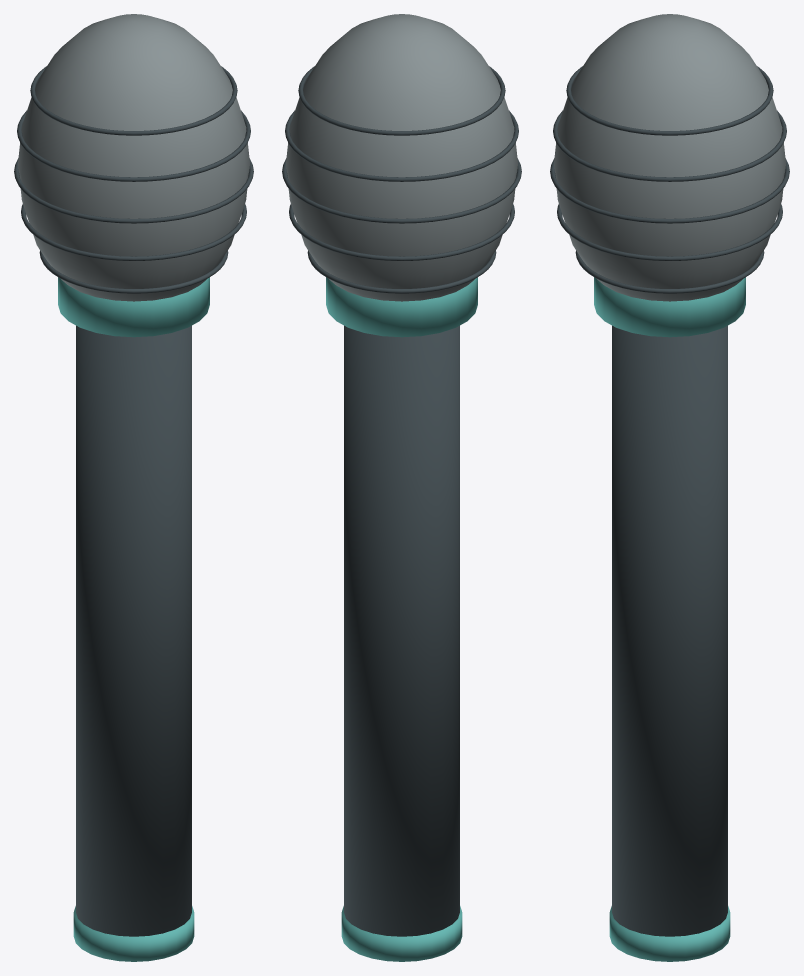
The model's file is studio-microphone-v1.glb.
3 views of the same model, side by side, from view 1: azimuth 30°, elevation 25°; view 2: azimuth 150°, elevation 25°; view 3: azimuth 270°, elevation 25° (orthographic).
Visible parts, largest first — view 1: Handle, Grille, Collar, BaseCap, GrilleBand3, GrilleBand2, GrilleBand4, GrilleBand1, GrilleBand0; view 2: Handle, Grille, Collar, BaseCap, GrilleBand3, GrilleBand2, GrilleBand4, GrilleBand1, GrilleBand0; view 3: Handle, Grille, Collar, BaseCap, GrilleBand3, GrilleBand2, GrilleBand4, GrilleBand1, GrilleBand0.
Part boxes in pixels (x1,y1,x2,y2): Handle: (76,325,191,936); Grille: (18,14,249,301); Collar: (58,277,209,337); BaseCap: (73,906,194,961); GrilleBand3: (17,110,250,181); GrilleBand2: (14,158,253,223); GrilleBand4: (30,66,237,135); GrilleBand1: (21,204,246,260); GrilleBand0: (39,250,228,293); Handle: (344,325,459,936); Grille: (286,14,517,301); Collar: (326,277,477,337); BaseCap: (341,906,462,961); GrilleBand3: (285,110,518,181); GrilleBand2: (282,158,521,223); GrilleBand4: (298,66,505,135); GrilleBand1: (289,204,514,260); GrilleBand0: (307,250,496,293); Handle: (612,325,727,936); Grille: (554,14,785,301); Collar: (594,277,745,337); BaseCap: (609,906,730,961); GrilleBand3: (553,110,786,181); GrilleBand2: (550,158,789,223); GrilleBand4: (566,66,773,135); GrilleBand1: (557,204,782,260); GrilleBand0: (575,250,764,293).
Bounding box in the file's own units: 0.0537 × 0.226 × 0.0537.
